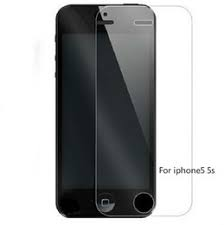iphone: (51, 3, 159, 219)
